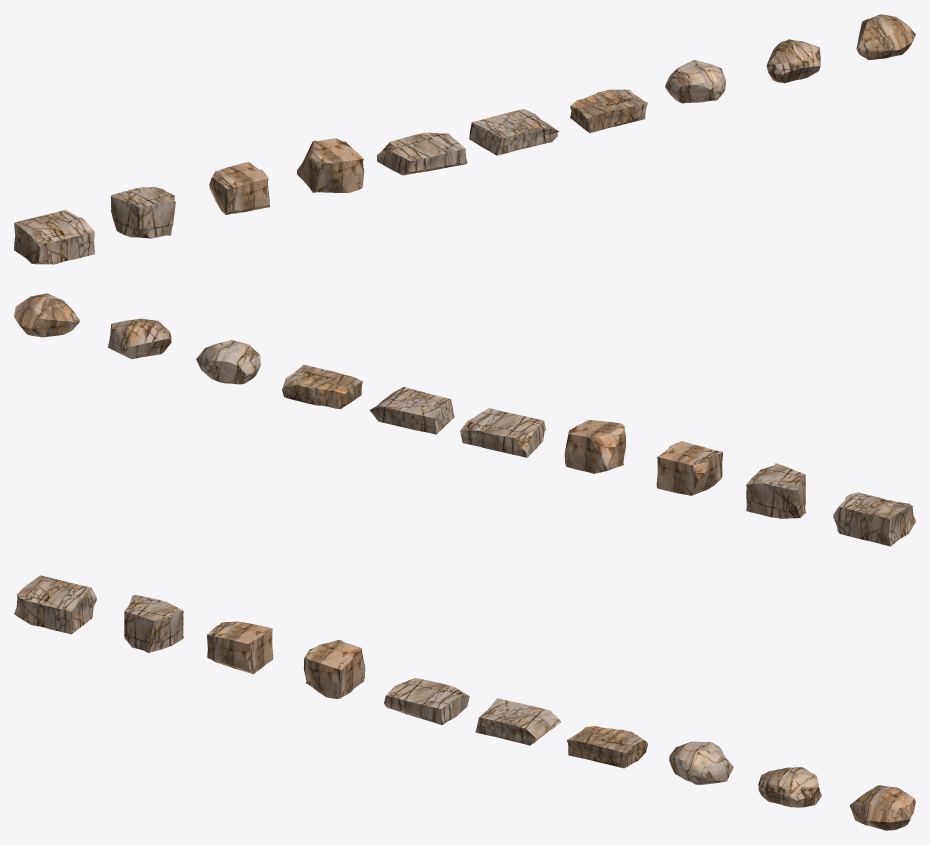
File: rocas-caliza-m.glb
3 views of the same model, one above another, from view 1: azimuth 30°, elevation 25°; view 2: azimuth 150°, elevation 25°; view 3: azimuth 330°, elevation 25° (orthographic).
Visible parts, largest first — view 1: roca0, roca3, roca1, roca4, roca5, roca2, roca6, roca9, roca7, roca8; view 2: roca0, roca4, roca2, roca3, roca1, roca5, roca6, roca7, roca9, roca8; view 3: roca0, roca3, roca2, roca1, roca4, roca5, roca6, roca9, roca7, roca8.
Part boxes in pixels (bbox=[...]): roca0: bbox=[14, 210, 94, 264]; roca3: bbox=[297, 138, 364, 192]; roca1: bbox=[110, 187, 175, 238]; roca4: bbox=[376, 132, 467, 175]; roca5: bbox=[469, 109, 559, 155]; roca2: bbox=[209, 162, 269, 214]; roca6: bbox=[570, 89, 647, 132]; roca9: bbox=[856, 14, 915, 59]; roca7: bbox=[665, 60, 725, 103]; roca8: bbox=[766, 39, 820, 83]; roca0: bbox=[833, 492, 915, 546]; roca4: bbox=[460, 408, 545, 457]; roca2: bbox=[656, 441, 722, 495]; roca3: bbox=[564, 420, 626, 473]; roca1: bbox=[746, 463, 805, 518]; roca5: bbox=[369, 387, 454, 434]; roca6: bbox=[282, 364, 362, 409]; roca7: bbox=[196, 340, 260, 384]; roca9: bbox=[14, 293, 79, 337]; roca8: bbox=[107, 318, 171, 359]; roca0: bbox=[14, 575, 96, 634]; roca3: bbox=[303, 640, 365, 698]; roca2: bbox=[207, 621, 273, 674]; roca1: bbox=[124, 594, 183, 652]; roca4: bbox=[384, 678, 469, 724]; roca5: bbox=[475, 698, 561, 745]; roca6: bbox=[567, 726, 647, 768]; roca9: bbox=[849, 785, 915, 830]; roca7: bbox=[669, 741, 733, 784]; roca8: bbox=[758, 767, 821, 807].
Bounding box in the file's own units: 19.27 × 0.7595 × 1.18.
Materials: 1 (1 with a texture image).
